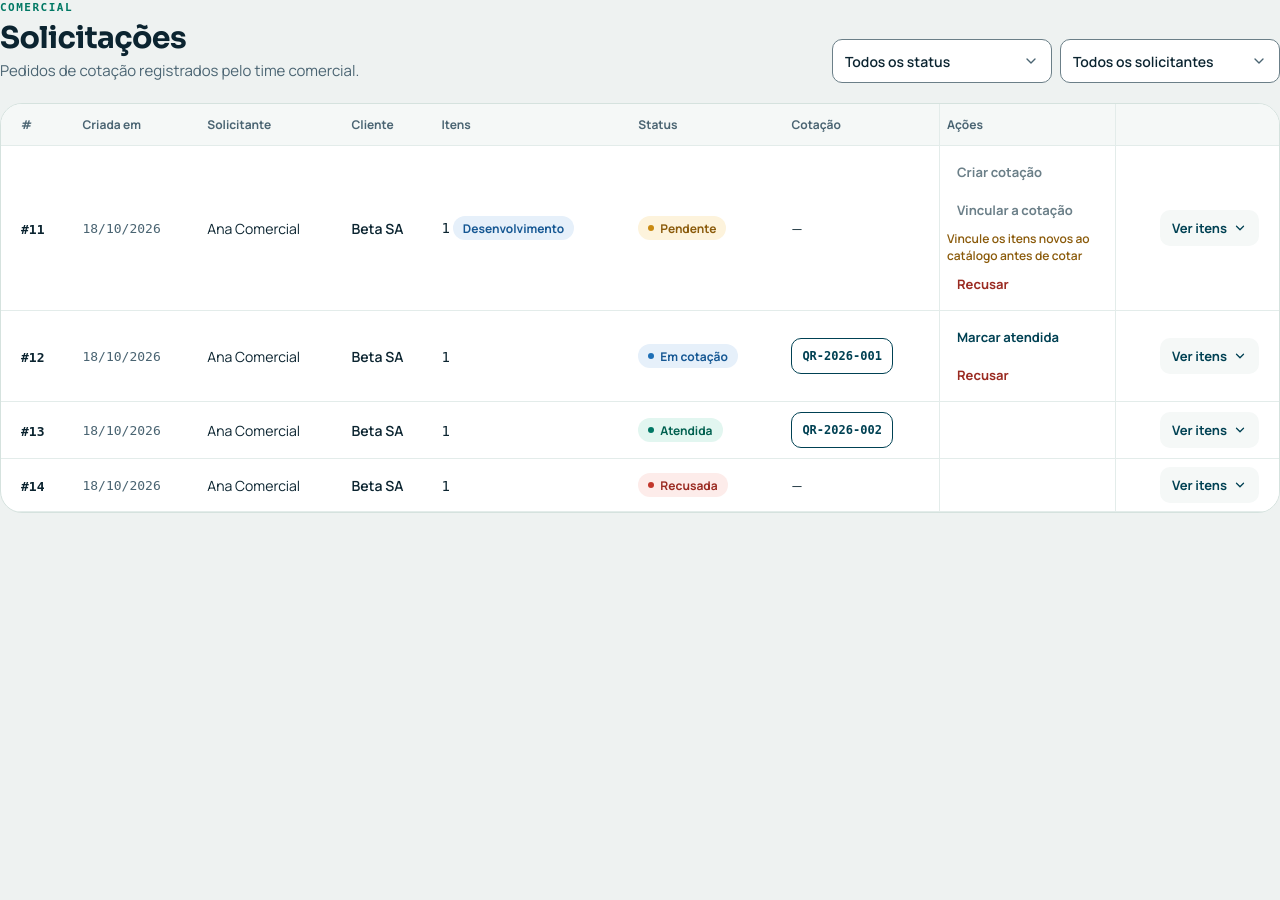
Test: F9: lista do COMEX › nenhum [style] na visao do COMEX (nem com a linha expandida e o modal de vinculo aberto)
The width and height of the screenshot is (1280, 900).
Click the button "Ver itens" in the row of "11". click: [1210, 228]
box: [1160,210,1259,246]
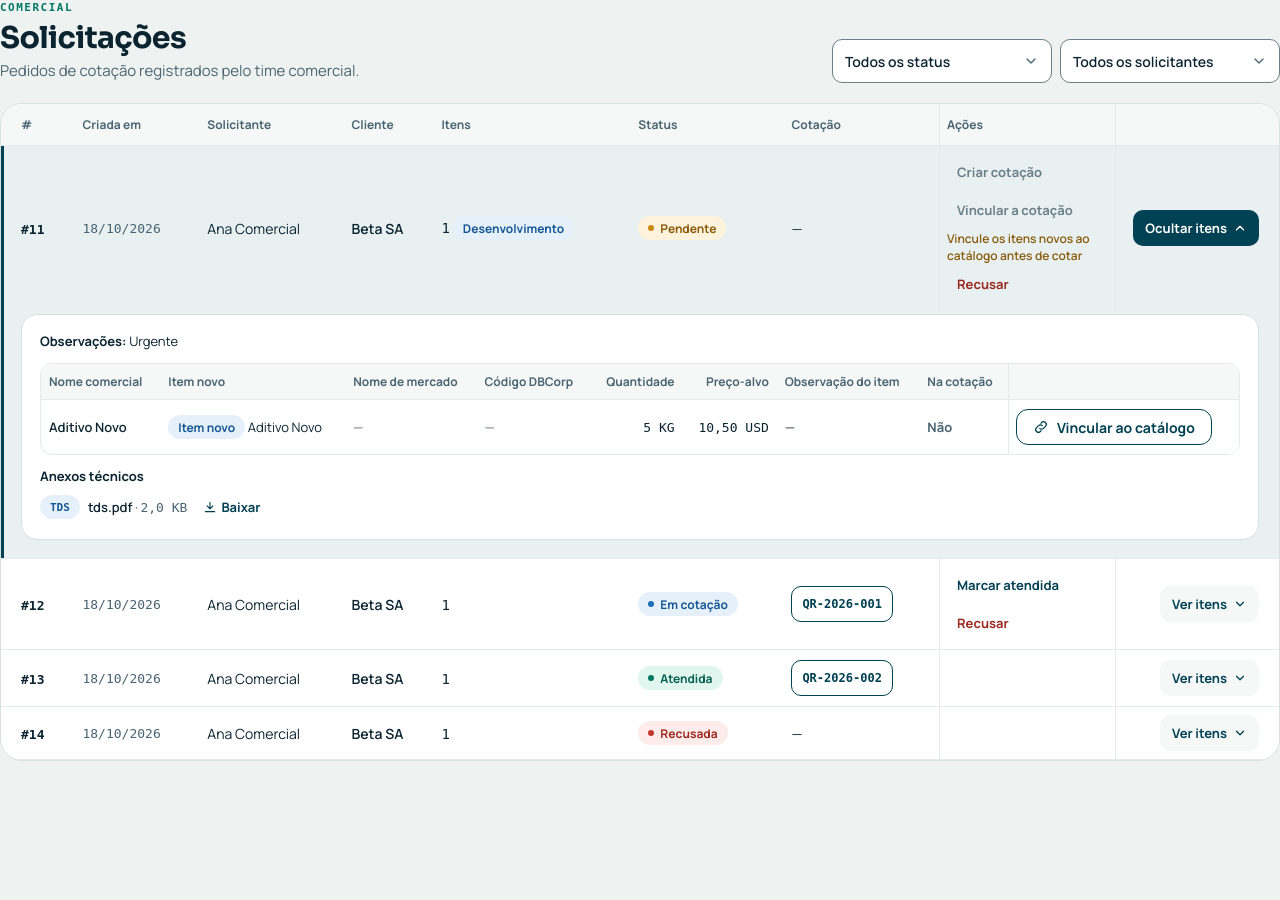
Click the button "Vincular ao catálogo". click: [1114, 427]
box: [1016,409,1212,445]
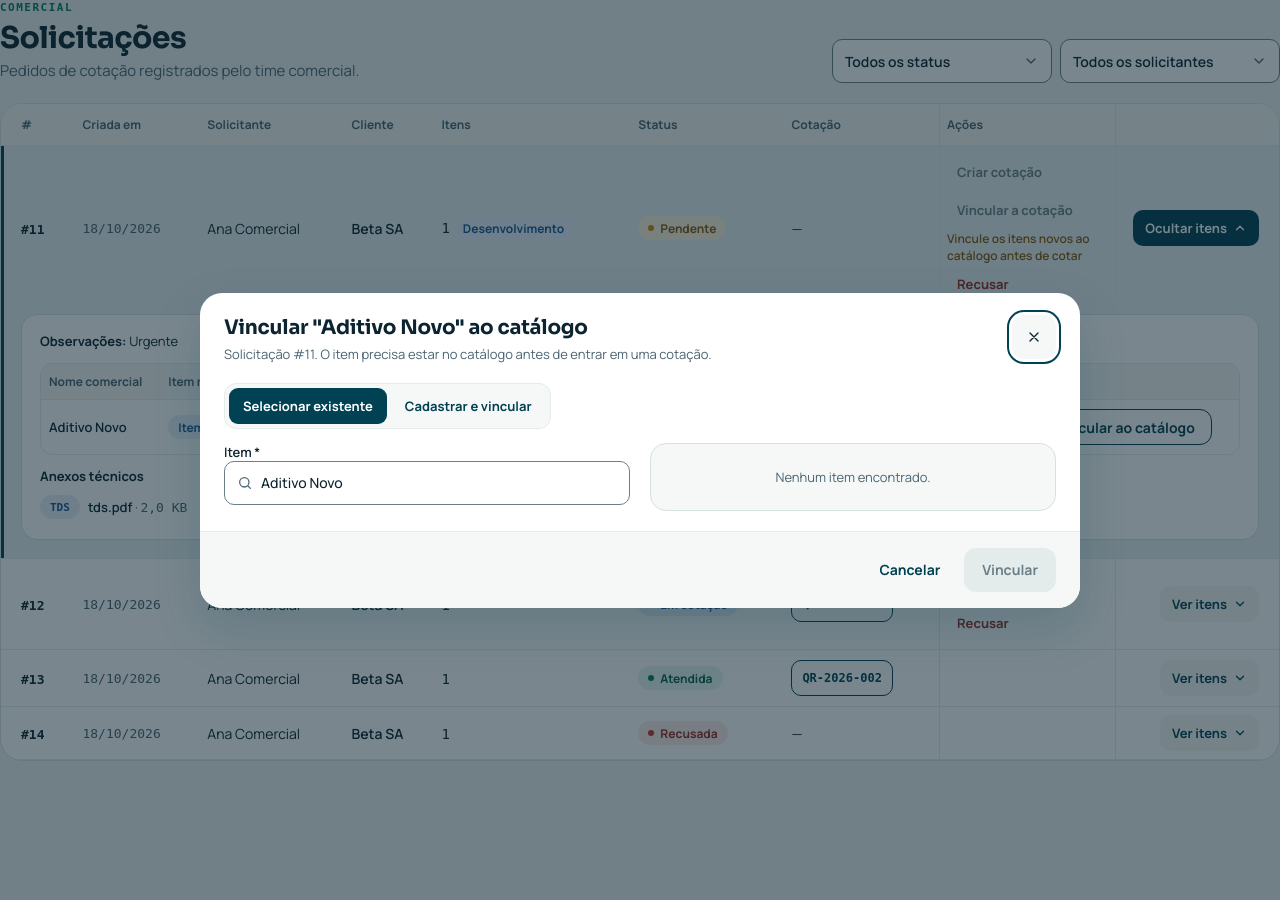
expect the tab "Selecionar existente" is shown: met, box [229,388,387,424]
